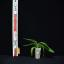leaf: (38, 44, 54, 53), (23, 38, 38, 46), (38, 42, 50, 49), (23, 43, 38, 48), (31, 46, 37, 56), (38, 46, 44, 56)
